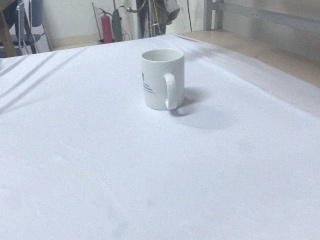cup: (140, 47, 187, 111)
